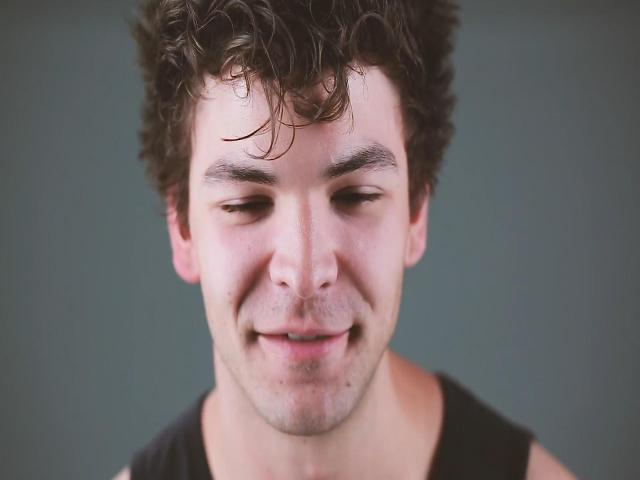eye_closed: (328, 179, 388, 218), (217, 189, 275, 225)
face: (200, 148, 411, 436)
